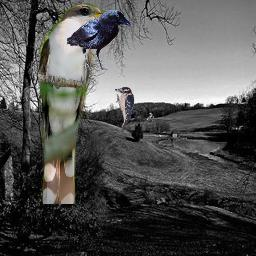Crow: (67, 10, 131, 71)
Cuckoo: (37, 2, 118, 204)
Woodpecker: (115, 86, 135, 132)
